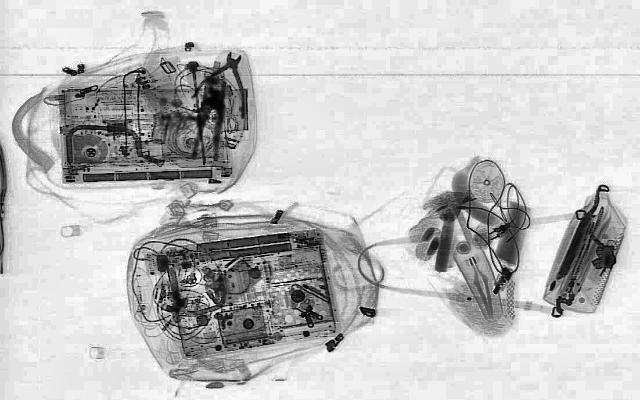Pliers: (187, 48, 265, 114)
